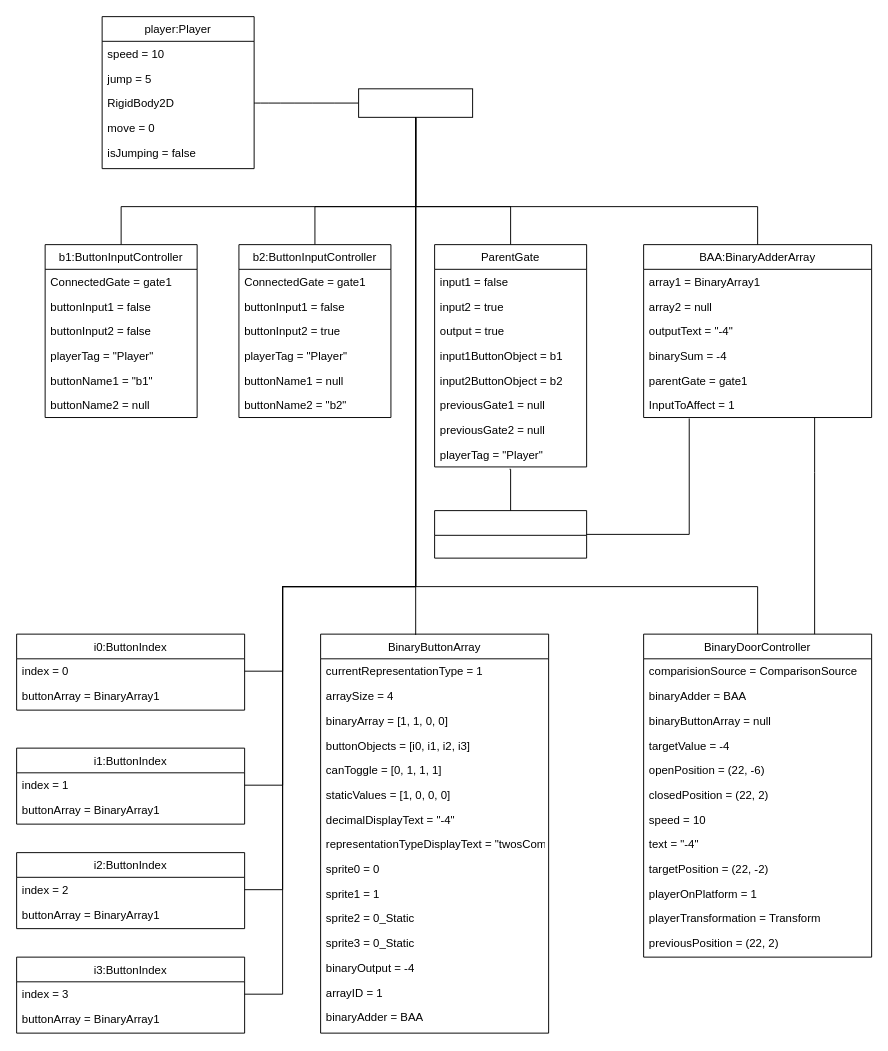
The diagram is 888 pixels wide and 1051 high, and some of its shapes have lost their labels. The shapes that lost their labels are listed below. From the top down, each one's centre as x and y in pixels, then its label:
At (x=415, y=102): "Scene".
At (x=510, y=534): "gate1:OrLogicGate".
